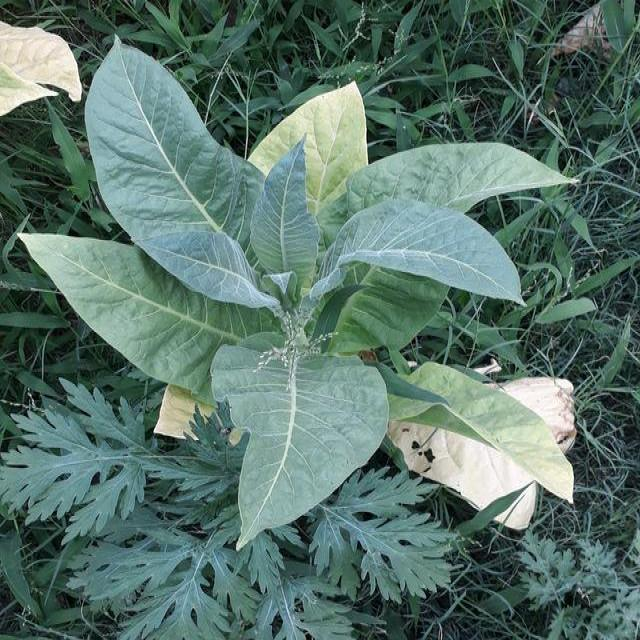crop: (65, 54, 572, 523), (2, 28, 82, 124)
